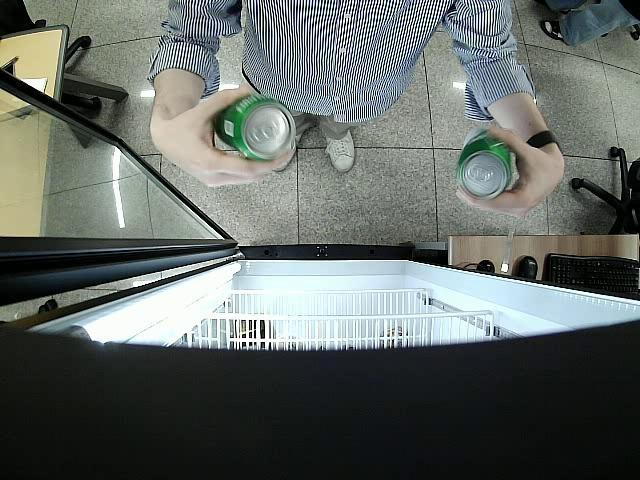12_chilsungCider: (216, 96, 290, 160), (456, 128, 514, 201)
